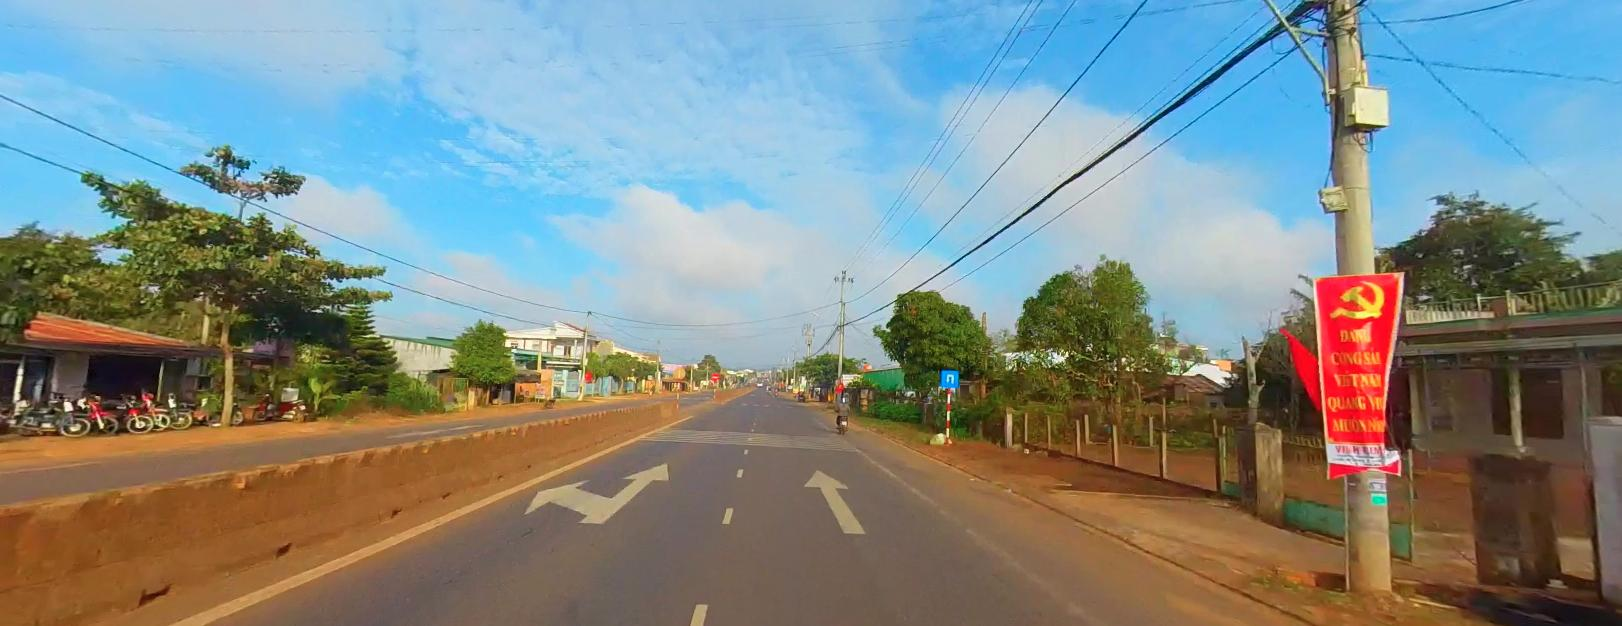Cam nguoc chieu: (710, 371, 718, 378)
